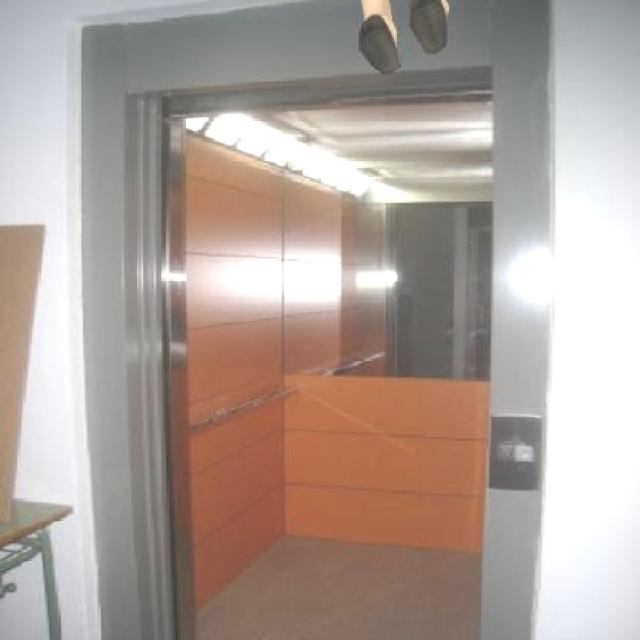Person: (355, 0, 456, 78)
